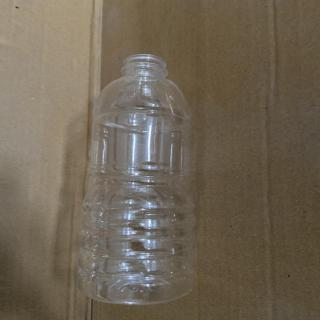Plastic-bottle: (75, 50, 203, 308)
